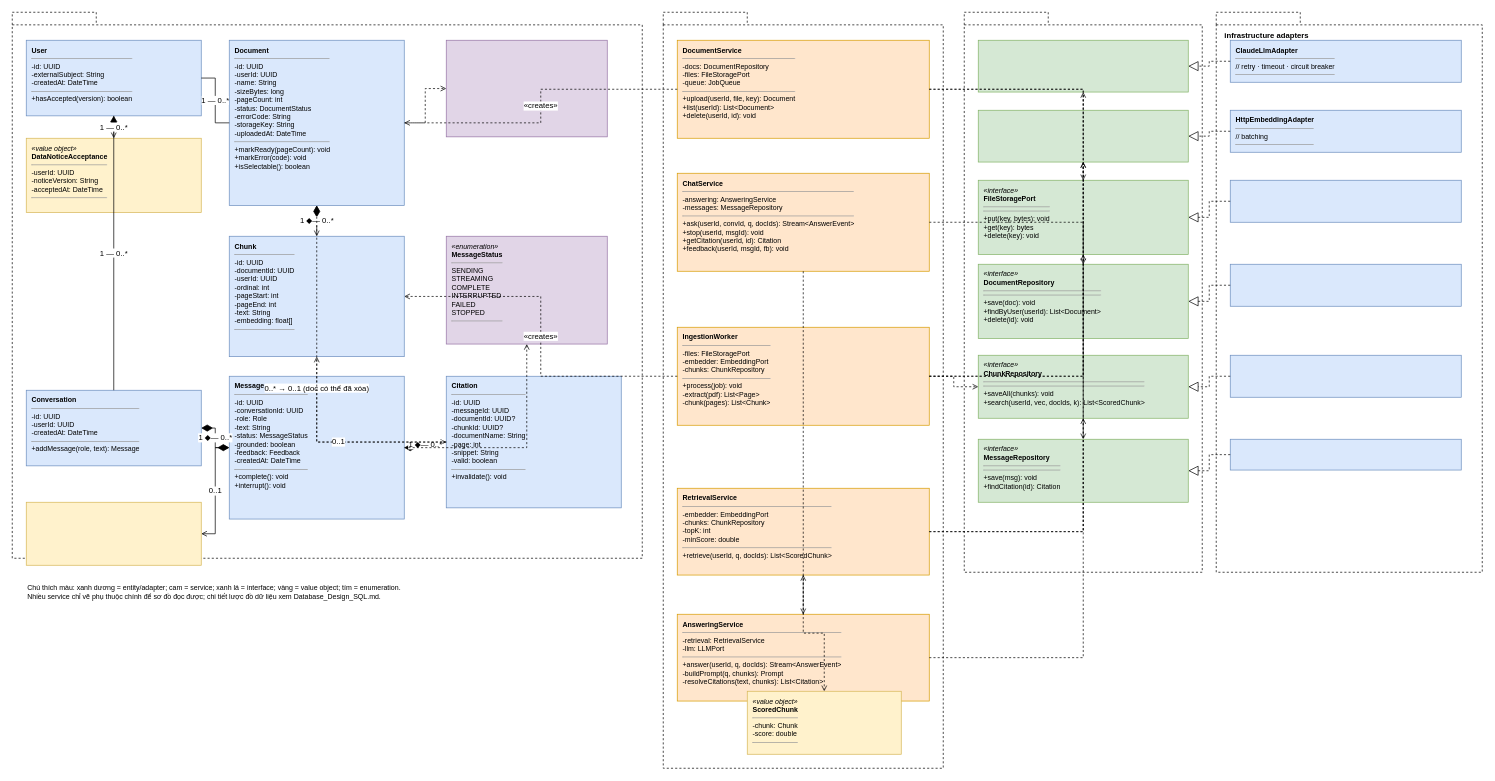
Some shapes in this 1495 by 781 pixel diagram are drawn without their labels. The shapes that lost their labels are listed below. From the top down, each one's box as (x1, y1, x2, y2) in pixels, then its label:
(978, 40, 1188, 92): «interface» LLMPort +stream(prompt): Stream<String>
(446, 40, 607, 137): «enumeration» DocumentStatus UPLOADING UPLOAD_FAILED PROCESSING READY ERROR
(978, 110, 1188, 162): «interface» EmbeddingPort +embed(texts): List<float[]>
(1230, 180, 1461, 222): S3FileStorage // SSE encryption
(12, 12, 642, 558): domain
(964, 12, 1202, 572): ports (interfaces)
(1230, 264, 1461, 306): PgDocumentRepository // RLS: app.user_id
(663, 12, 943, 768): application
(1230, 355, 1461, 397): PgChunkRepository // pgvector HNSW, cosine
(1230, 439, 1461, 470): PgMessageRepository
(26, 502, 201, 565): «value object» Feedback -rating: UP|DOWN -reasonCode: String?
